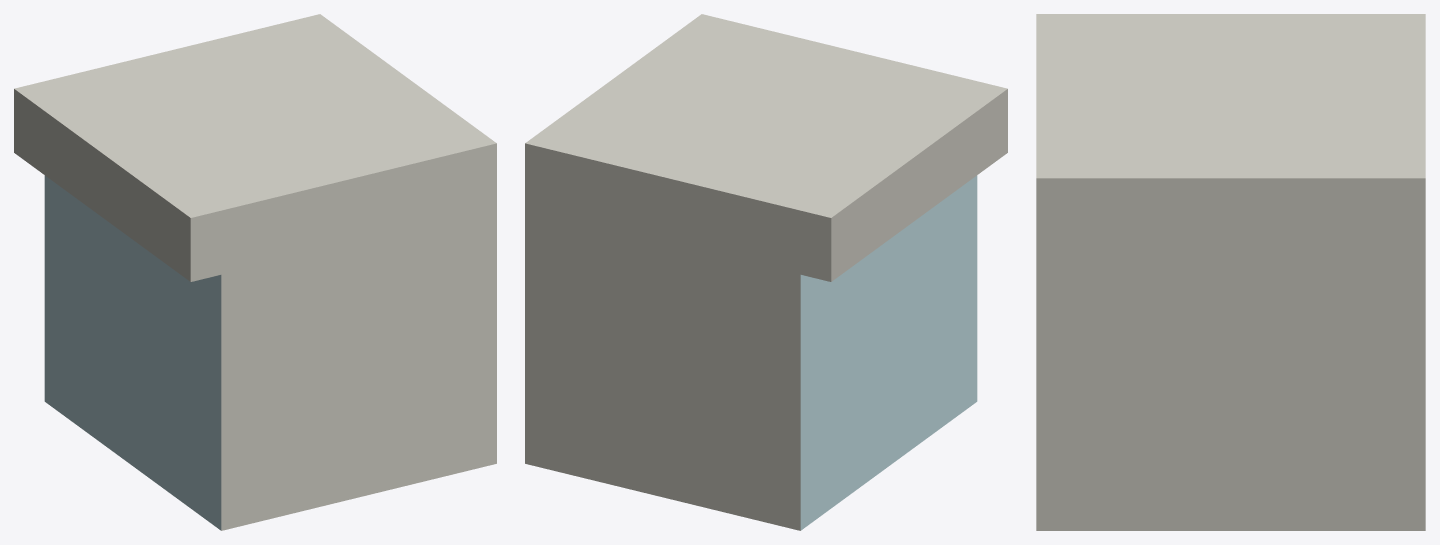
The model's file is Building Story 39.fbx.
The picture shows the model from 3 angles, left to right: view 1: azimuth 30°, elevation 25°; view 2: azimuth 150°, elevation 25°; view 3: azimuth 270°, elevation 25°; orthographic projection. The views are drawn at different scales.
Visible parts, largest first — view 1: Building Story 39; view 2: Building Story 39; view 3: Building Story 39.
Boxes of the visible parts, bbox=[...] form: Building Story 39: bbox=[14, 14, 496, 530]; Building Story 39: bbox=[525, 14, 1007, 530]; Building Story 39: bbox=[1036, 14, 1425, 530].
Bounding box in the file's own units: 1 × 1 × 1.
